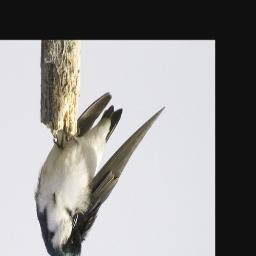Swallow: (33, 90, 165, 256)
